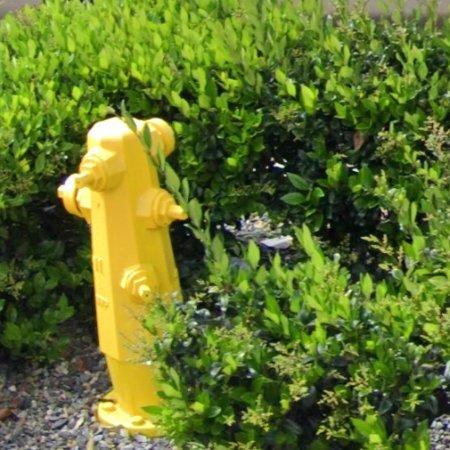a fire hydrant: (58, 117, 186, 437)
